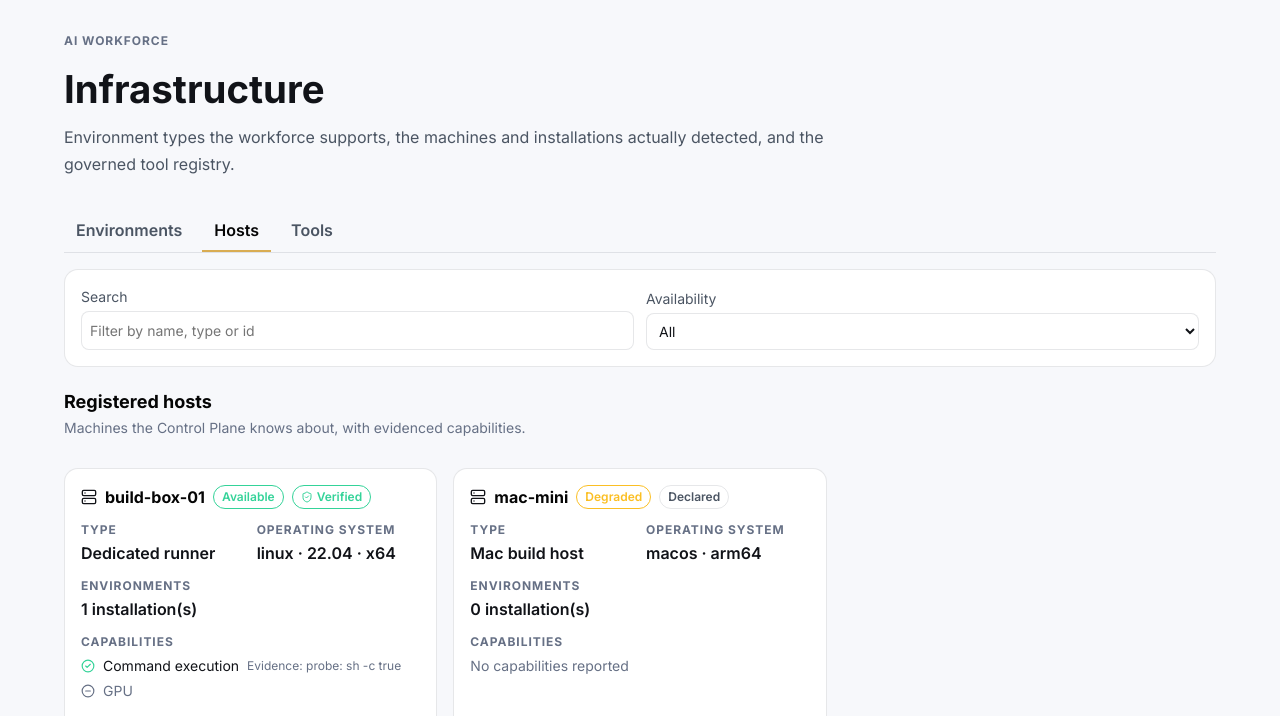
Infrastructure › lists hosts with evidenced capabilities and filters by availability
This screenshot has width=1280, height=716.
Expected: the text "Dedicated runner" is shown, x1=81 y1=543 x2=215 y2=563
Expected: the text "linux · 22.04 · x64" is shown, x1=257 y1=541 x2=420 y2=565
Select "Degraded" in the dropdown labelled "Availability": (922, 332) x1=646 y1=314 x2=1199 y2=350
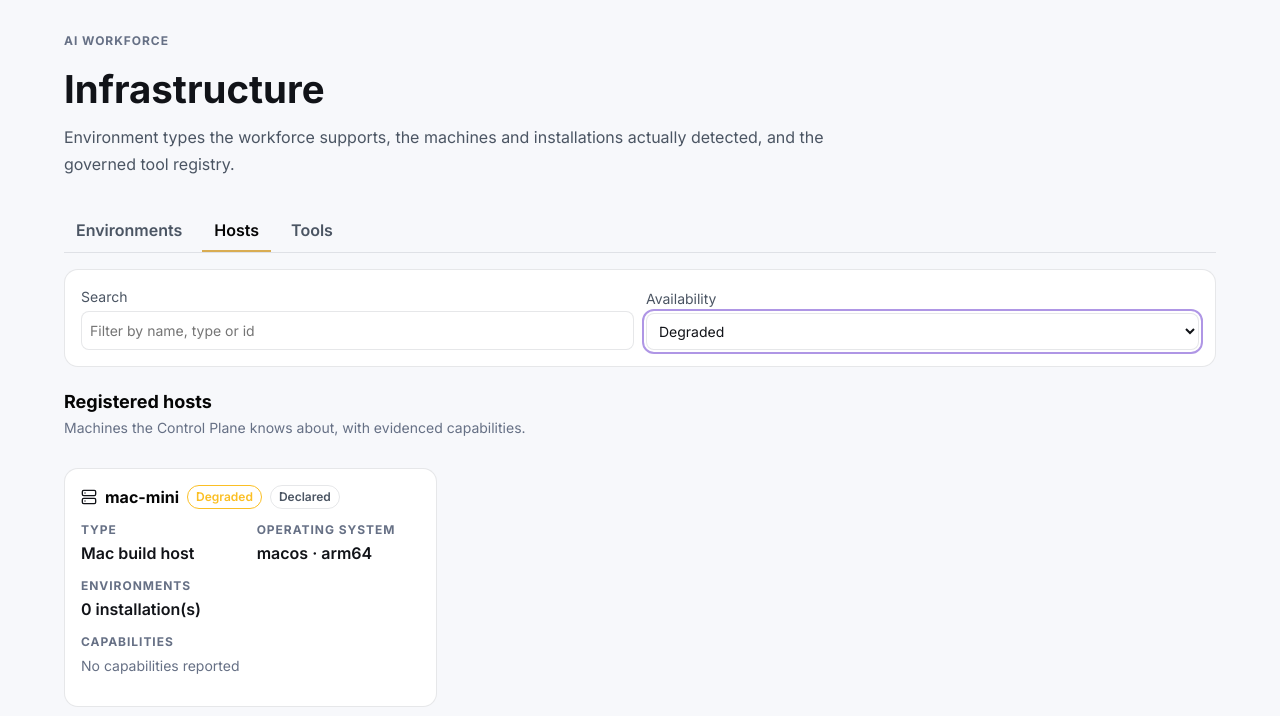
Expected: the text "mac-mini" is shown, x1=105 y1=485 x2=179 y2=509
Expected: the text "build-box-01" is gone
